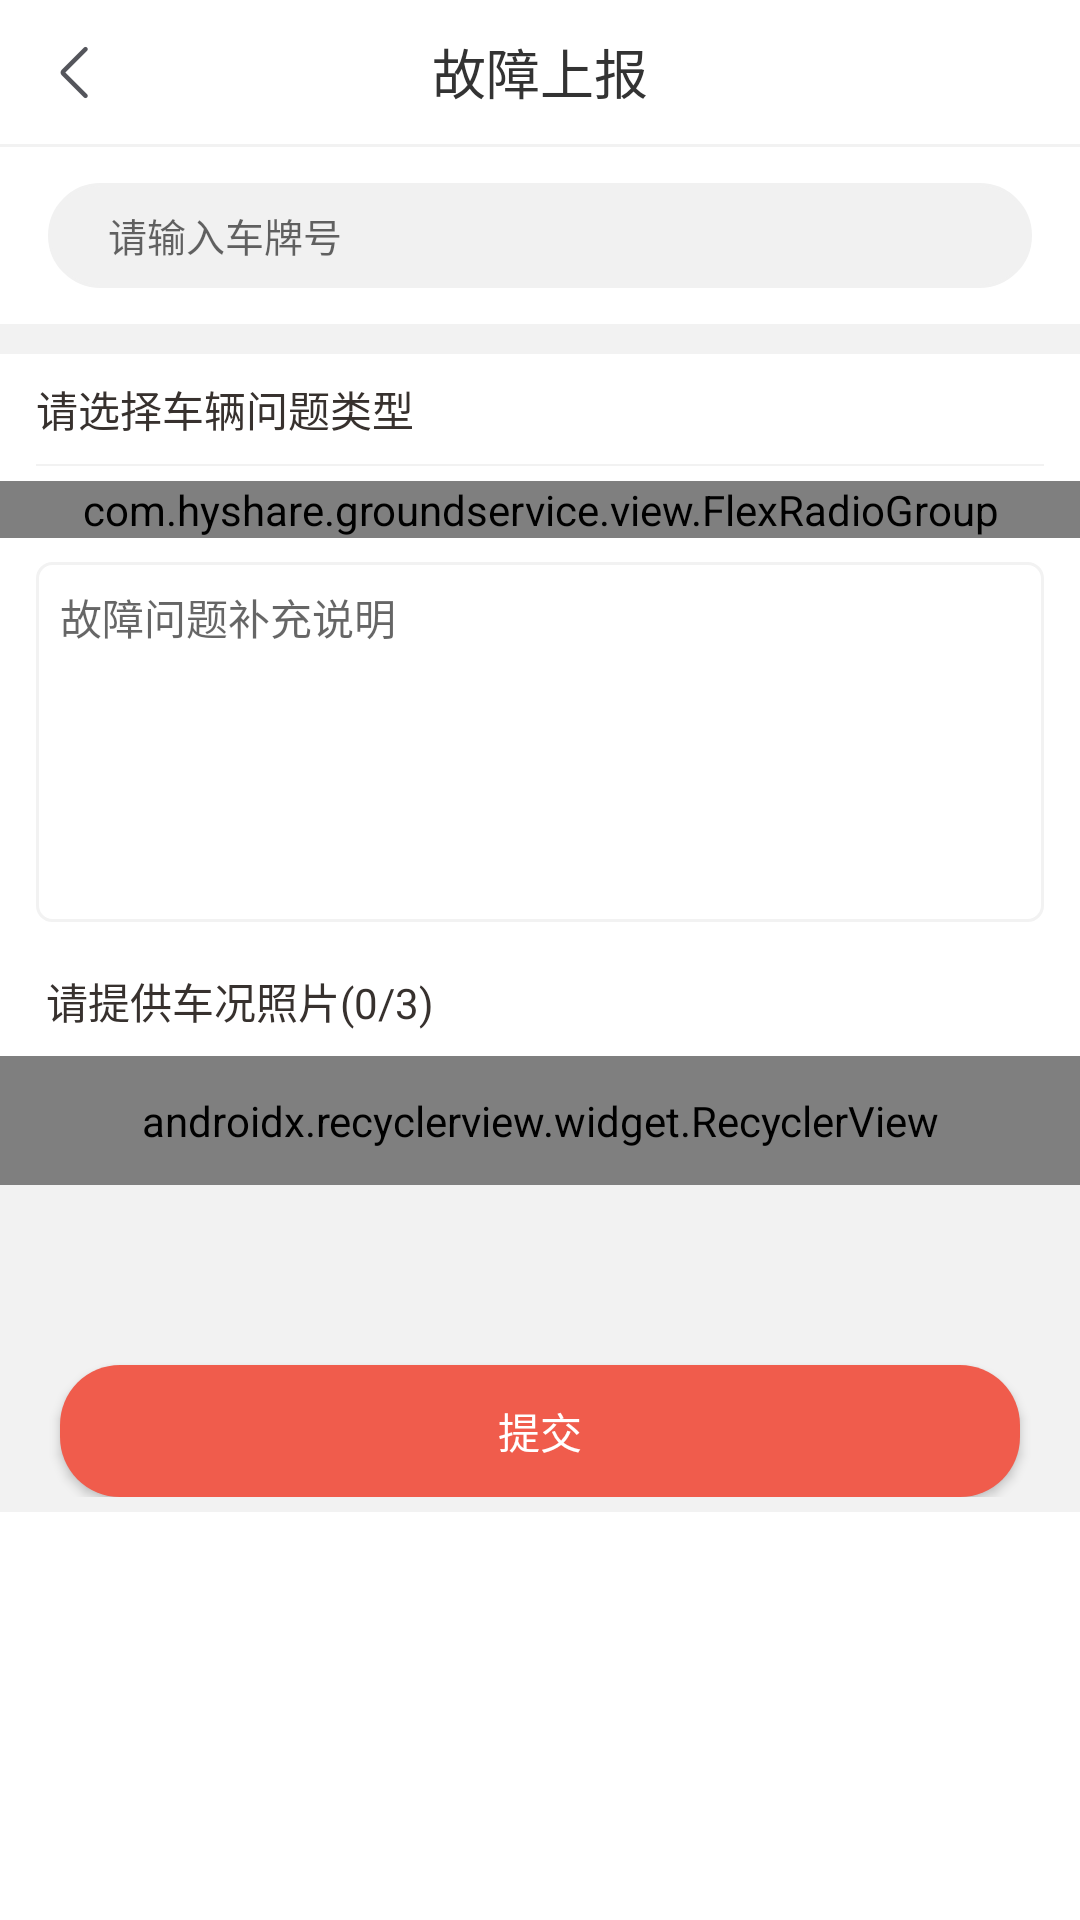

Where icons sit on this 1080×1920 app screen, as (x1,y1,x2,y2):
back: (60,47,88,98)
